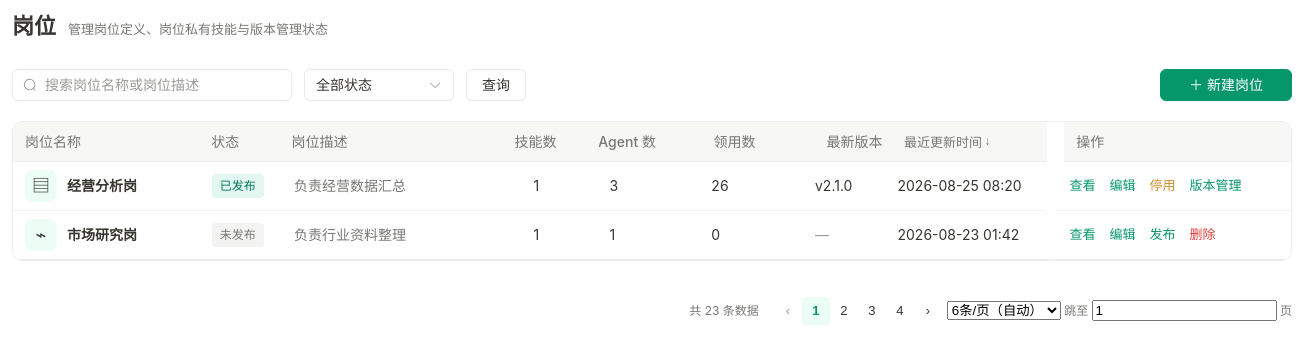
Test case: AdminPositions · 真实 Element Plus 挂载冒烟 › 翻到第 2 页 → listPositions(page:2) 且跳页框回填「2」
The image size is (1304, 344).
Click the button named "下一页" at {"x": 928, "y": 311}, box left=914, top=297, right=942, bottom=325
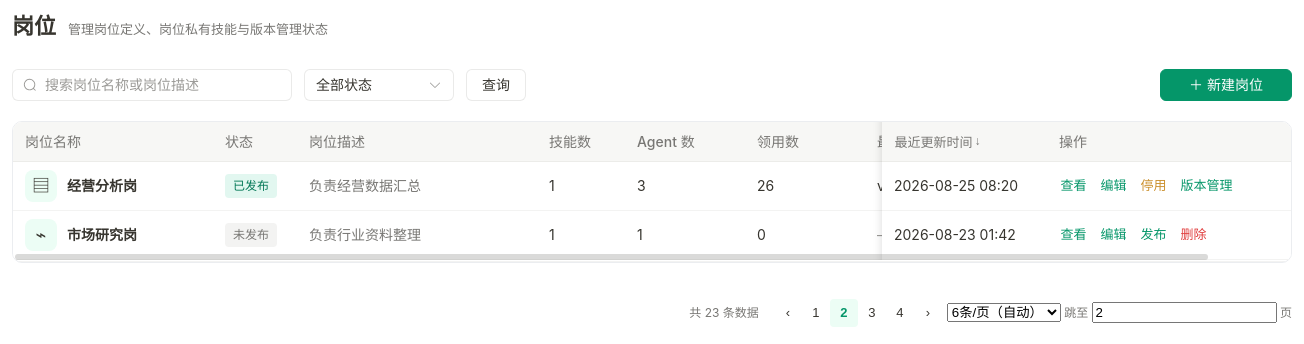
Expected: the field named "跳至页码" holds "2", left=1092, top=302, right=1277, bottom=323
